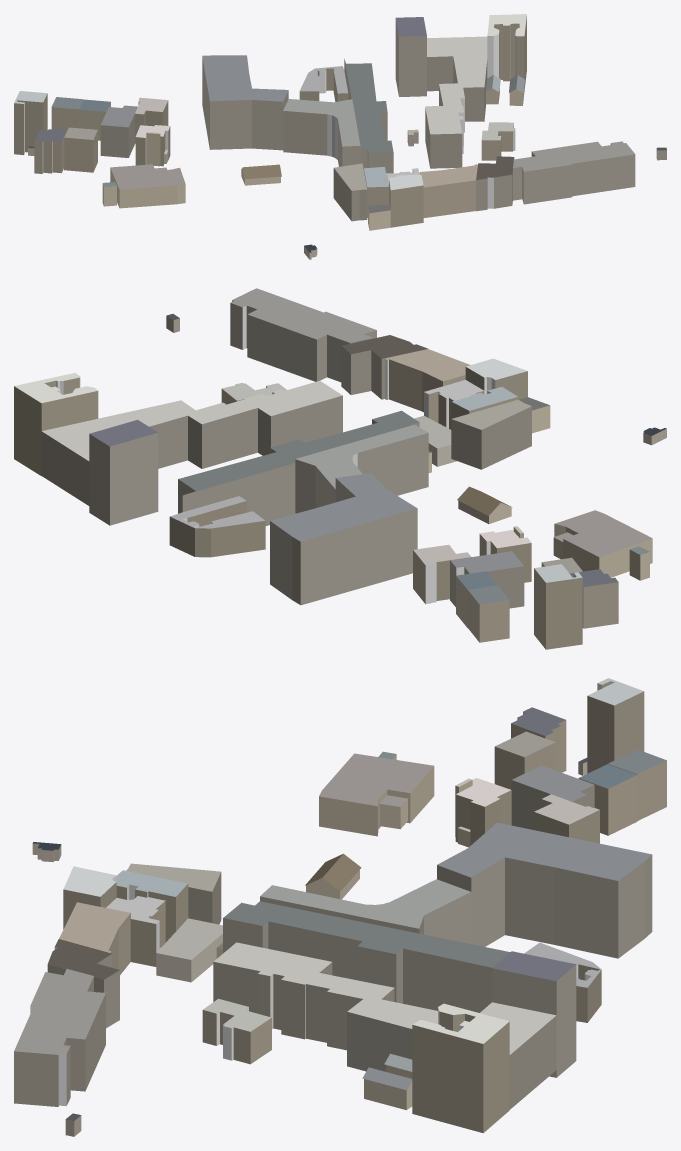
3 renders of one model, top to bottom at view 1: azimuth 30°, elevation 25°; view 2: azimuth 150°, elevation 25°; view 3: azimuth 270°, elevation 25°, orthographic. The views are drawn at different scales.
Visible parts, largest first — view 1: tuile; view 2: tuile; view 3: tuile.
Part boxes in pixels (x1=…): tuile: x1=14, y1=14, x2=666, y2=259; tuile: x1=14, y1=288, x2=666, y2=649; tuile: x1=14, y1=678, x2=666, y2=1136.
Size of the model in its own units: 250 by 33.17 by 181.
